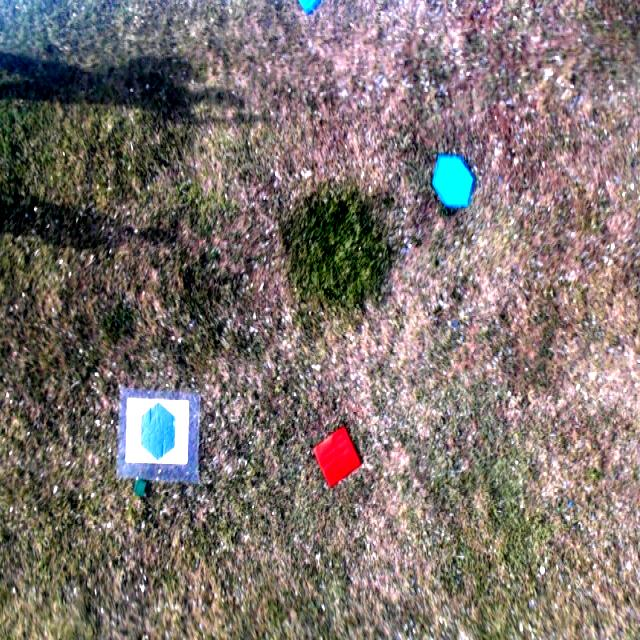blue_hexagon: (432, 154, 476, 209), (142, 404, 176, 457)
red_square: (316, 428, 362, 485)
